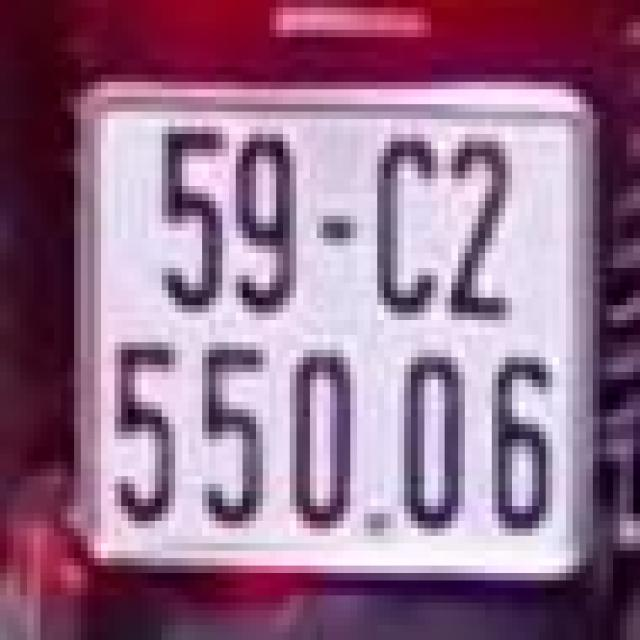0: (384, 346, 472, 540), (280, 338, 360, 540)
2: (444, 112, 526, 320)
5: (138, 100, 233, 324), (145, 112, 232, 320), (185, 346, 273, 547), (104, 328, 178, 528)
6: (472, 346, 580, 554)
9: (222, 104, 310, 313)
C: (364, 123, 438, 324)
